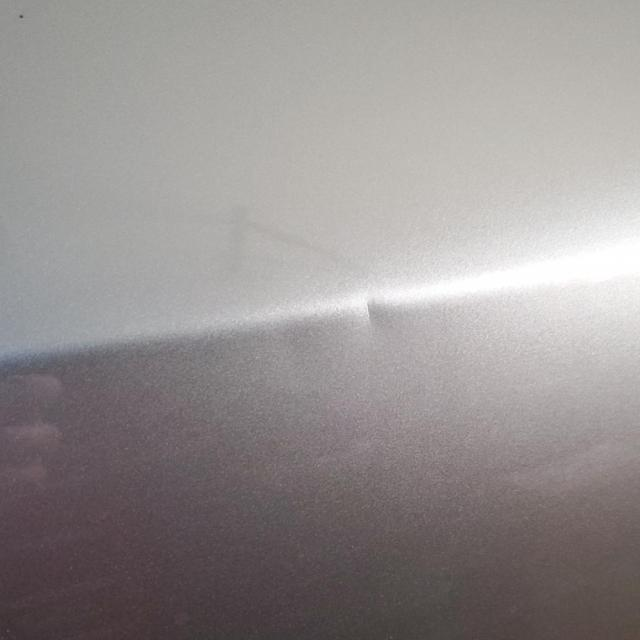dents: (342, 284, 417, 365)
